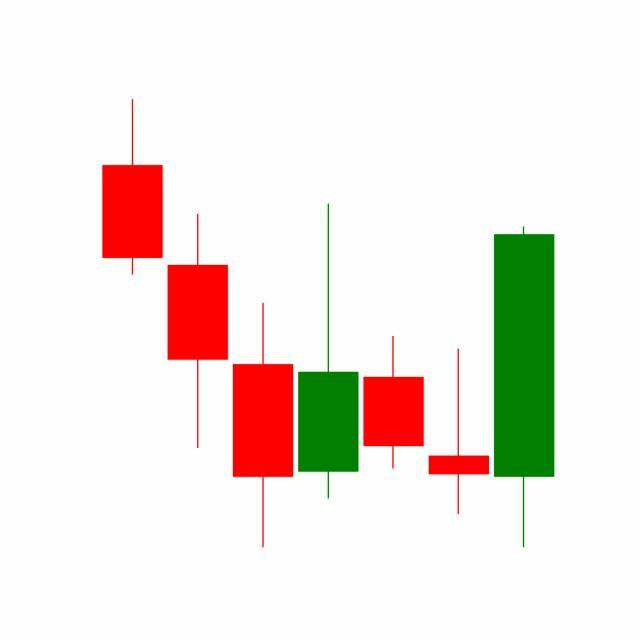Hikkake Pattern: (229, 199, 555, 549)
